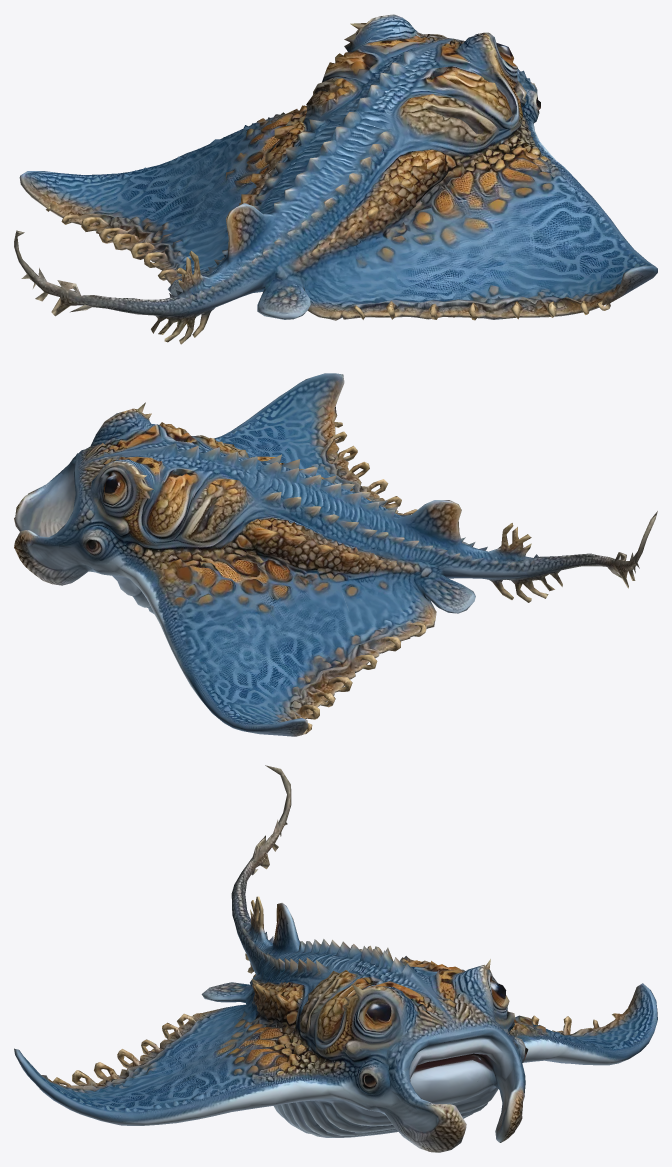
Rendered from rochen.glb.
3 views of the same model, one above another, from view 1: azimuth 30°, elevation 25°; view 2: azimuth 150°, elevation 25°; view 3: azimuth 270°, elevation 25° (orthographic). The views are drawn at different scales.
Visible parts, largest first — view 1: tripo_node_747a49e8-544c-48c3-b98c-10745a158584; view 2: tripo_node_747a49e8-544c-48c3-b98c-10745a158584; view 3: tripo_node_747a49e8-544c-48c3-b98c-10745a158584.
Part boxes in pixels (box(x1,y1,x2,y2)): tripo_node_747a49e8-544c-48c3-b98c-10745a158584: box(14, 14, 657, 344); tripo_node_747a49e8-544c-48c3-b98c-10745a158584: box(14, 373, 657, 736); tripo_node_747a49e8-544c-48c3-b98c-10745a158584: box(14, 765, 657, 1152).
Bounding box in the file's own units: 3.21 × 1 × 3.04.
Materials: 1 (1 with a texture image).
